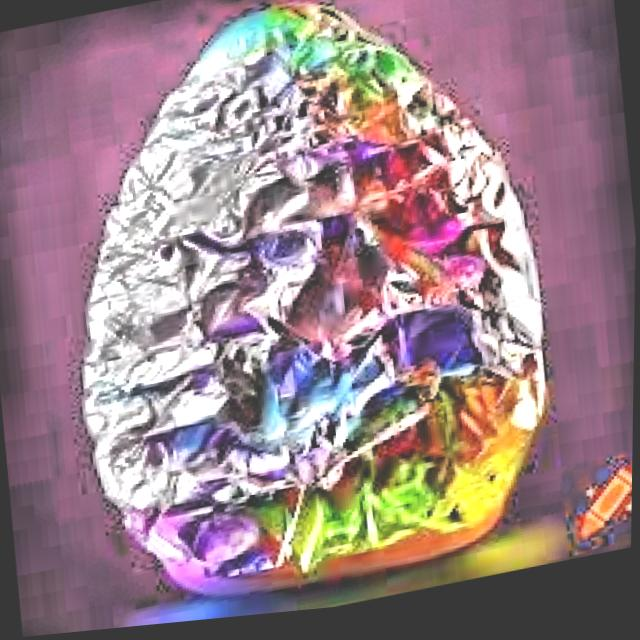Foil: (49, 0, 580, 636)
